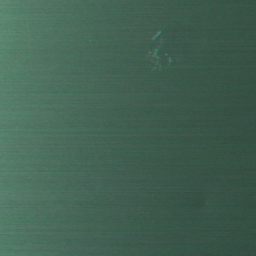con: (145, 28, 180, 76)
